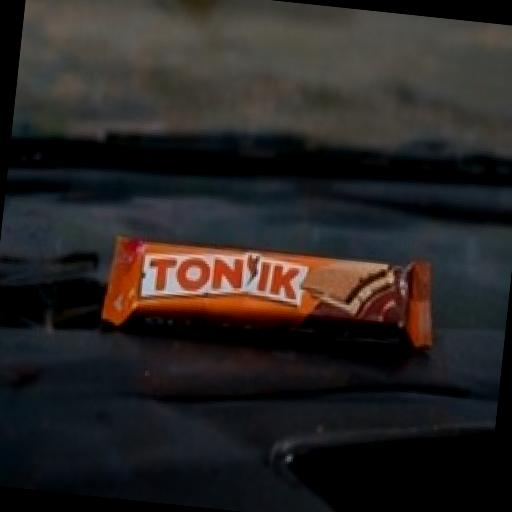tonik: (53, 152, 499, 452)
